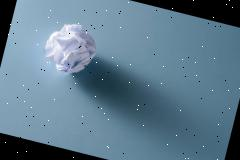paper: (40, 17, 102, 79)
